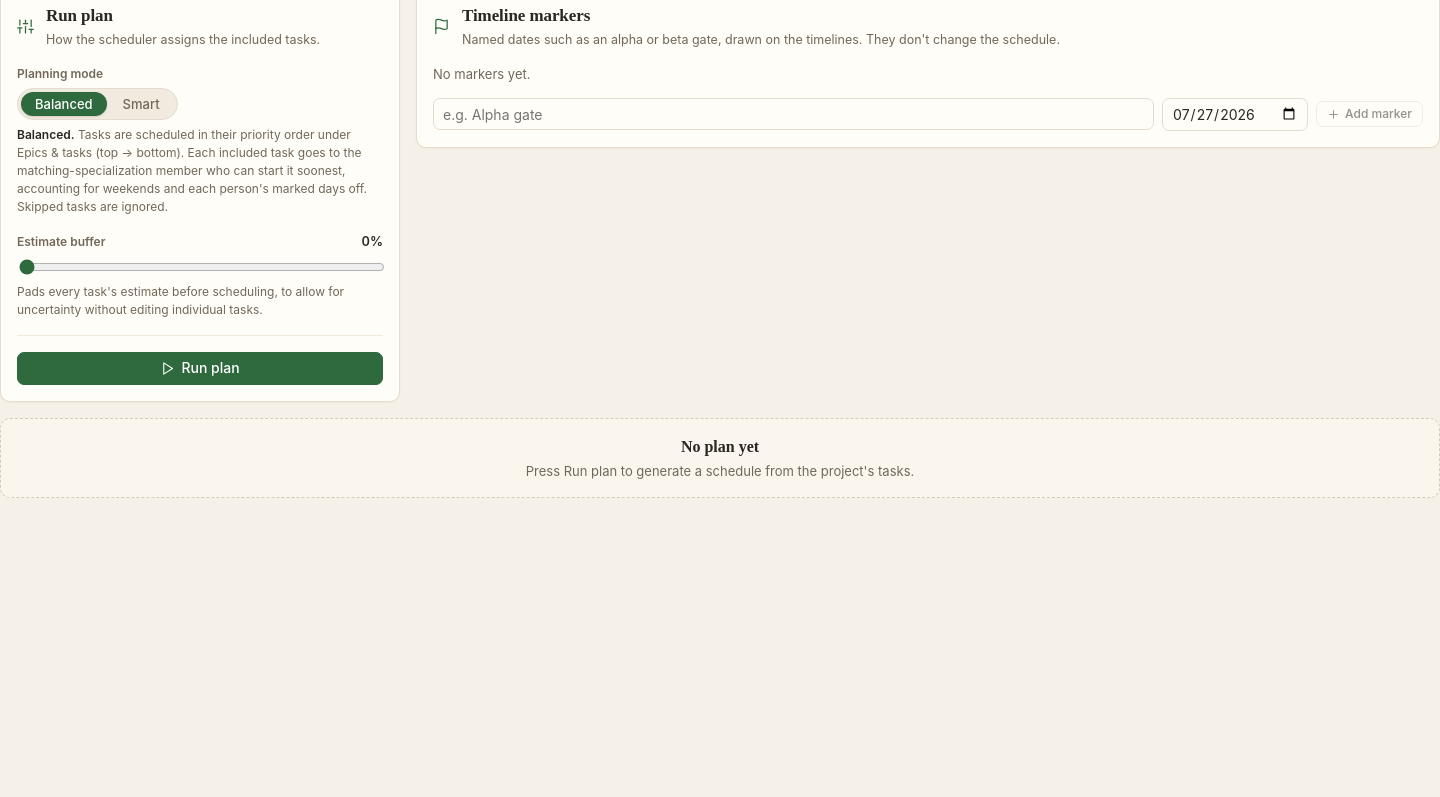
Scenario: RunPlanPanel › shows each epic's start and end in the epic grid
The width and height of the screenshot is (1440, 797).
Step 1. Click the button "Run plan" → (200, 368), box left=17, top=352, right=383, bottom=385
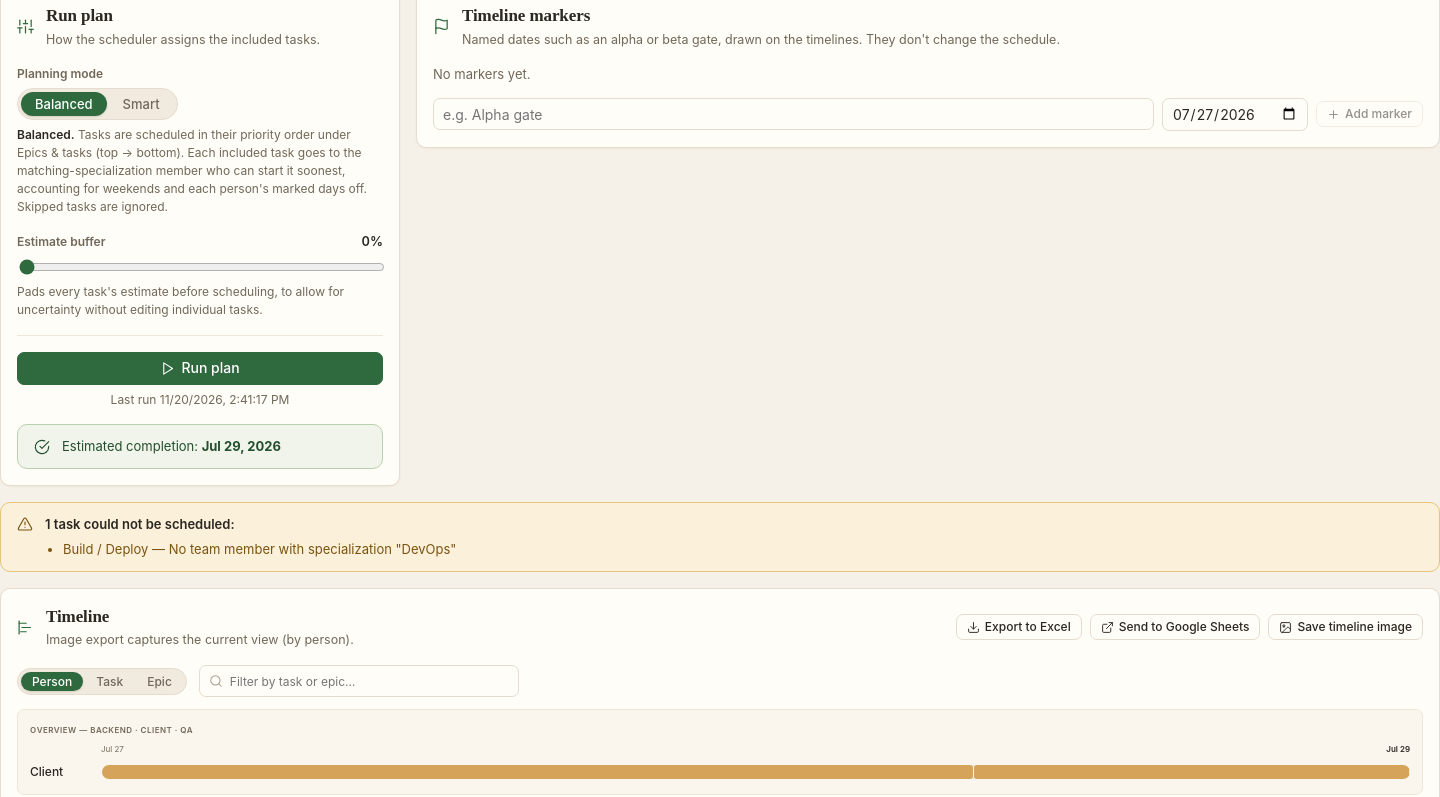
Step 2. Click the radio button with aria-label "By epic" → (160, 682), box left=136, top=672, right=183, bottom=691
(page scrolled)
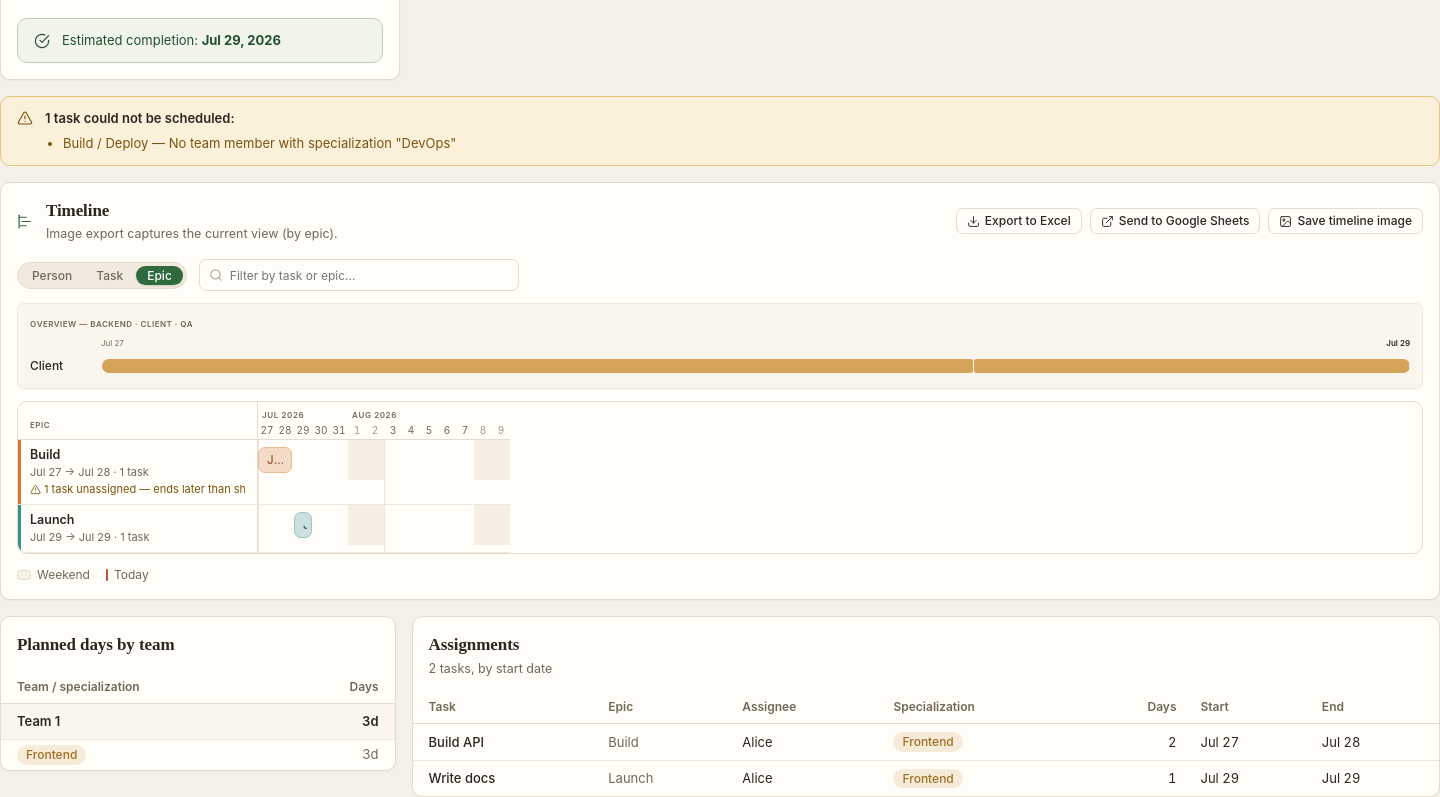
Check: the text "Jul 27 → Jul 28 · 1 task" is shown, box left=30, top=465, right=149, bottom=481
Check: the text "Jul 29 → Jul 29 · 1 task" is shown, box left=30, top=530, right=149, bottom=546
Check: the text "1 task unassigned — ends later than shown" is shown, box left=30, top=482, right=245, bottom=498
